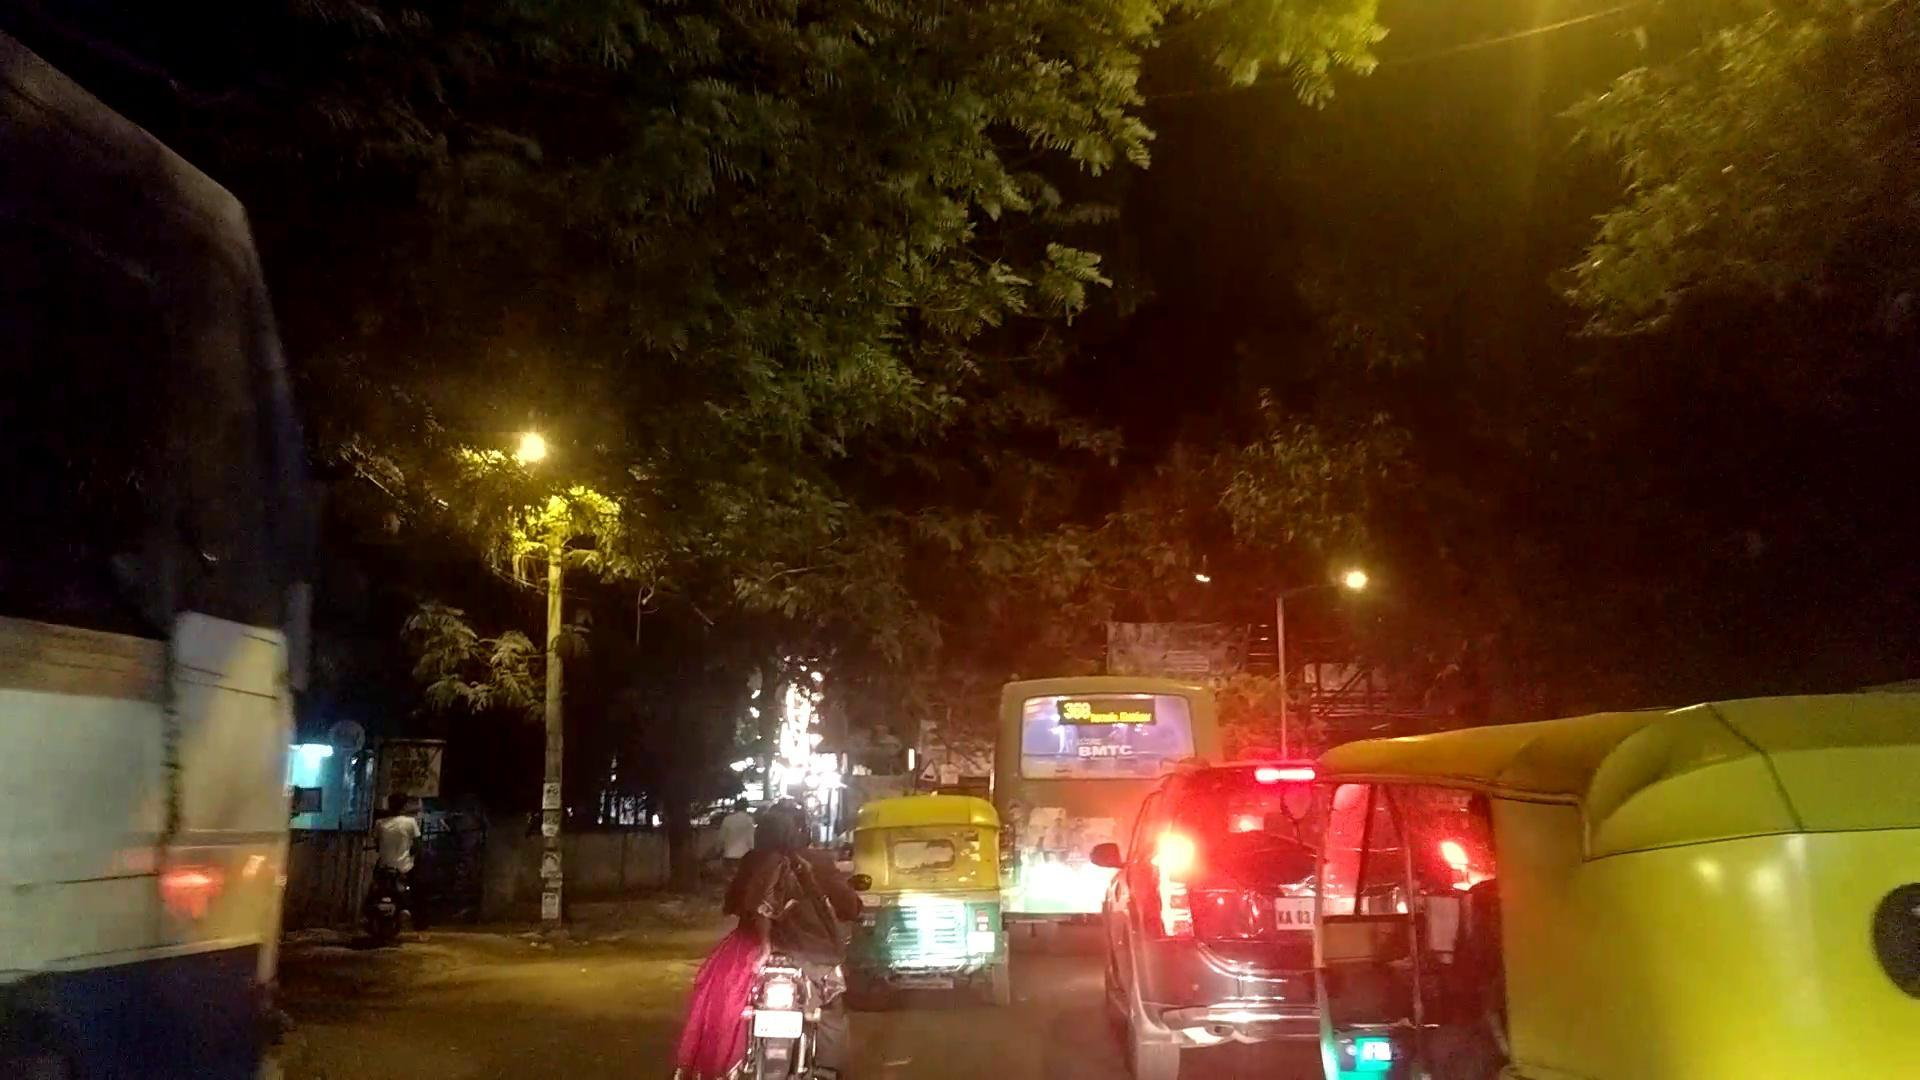on: (0, 0, 1799, 1080)
